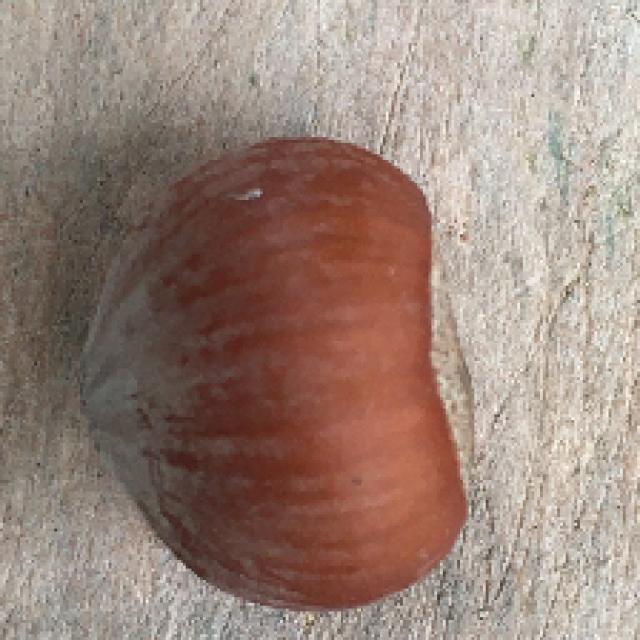hazelnut: (72, 129, 493, 614)
